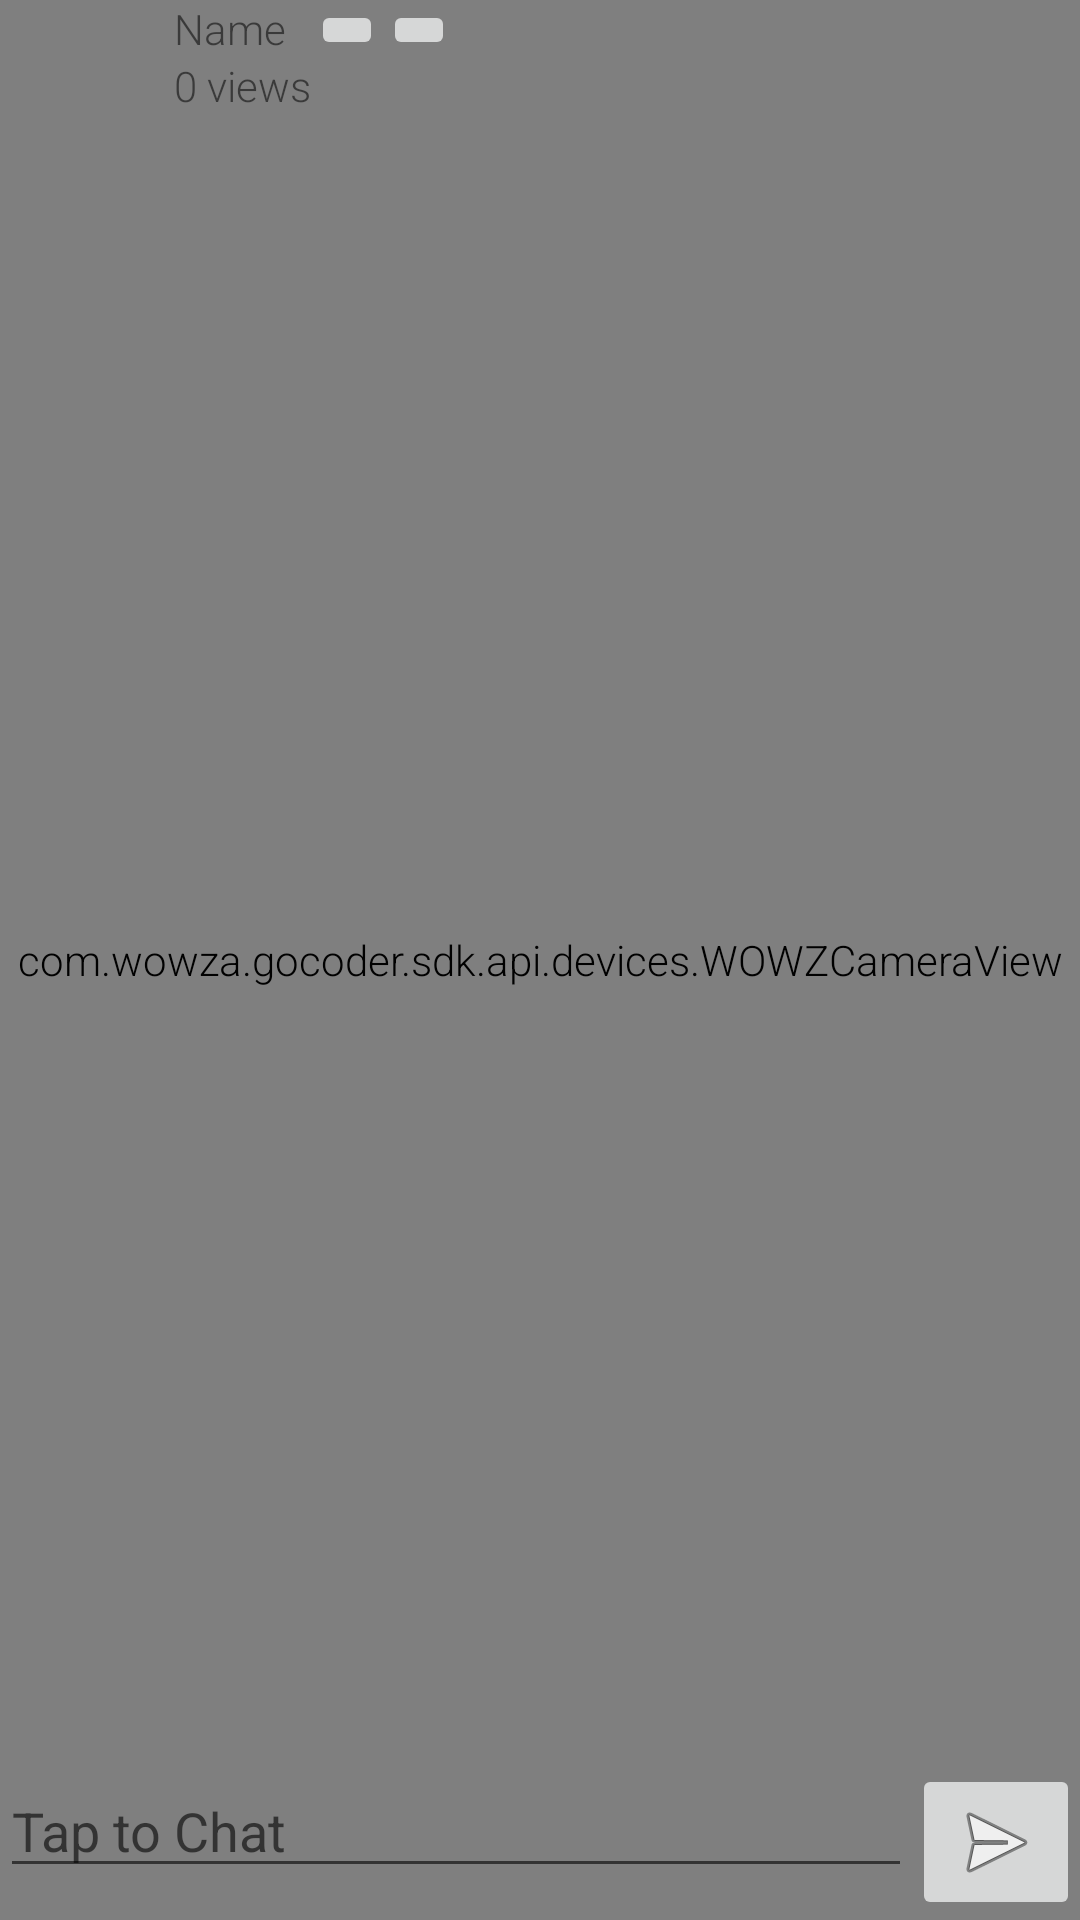

Icons on this 1080w x 1920h Android screen, each with the point to tap as (x=x, y=y):
send: (x=996, y=1842)
